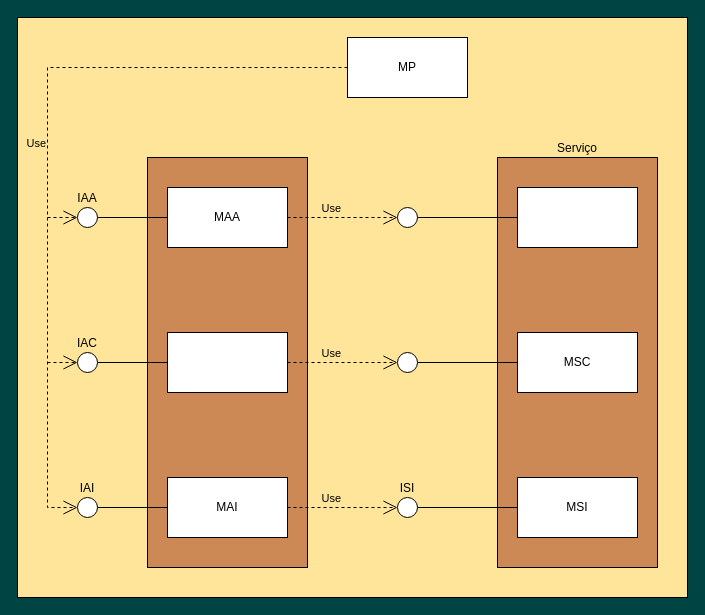
The diagram is 705 pixels wide and 615 high, and some of its shapes have lost their labels. The box of each missing label's shape, as (x1, y1, x2, y2) in pixels:
Apresentação: (146, 156, 308, 568)
ISA: (396, 206, 418, 228)
ISC: (396, 352, 418, 372)
MAC: (166, 332, 288, 392)
MSA: (516, 186, 638, 248)
